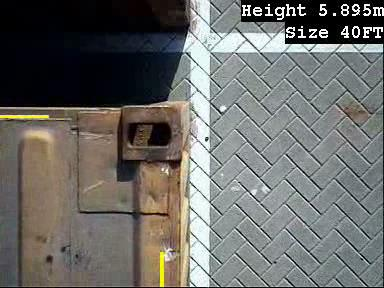groundmarker_2: (198, 127, 252, 190)
